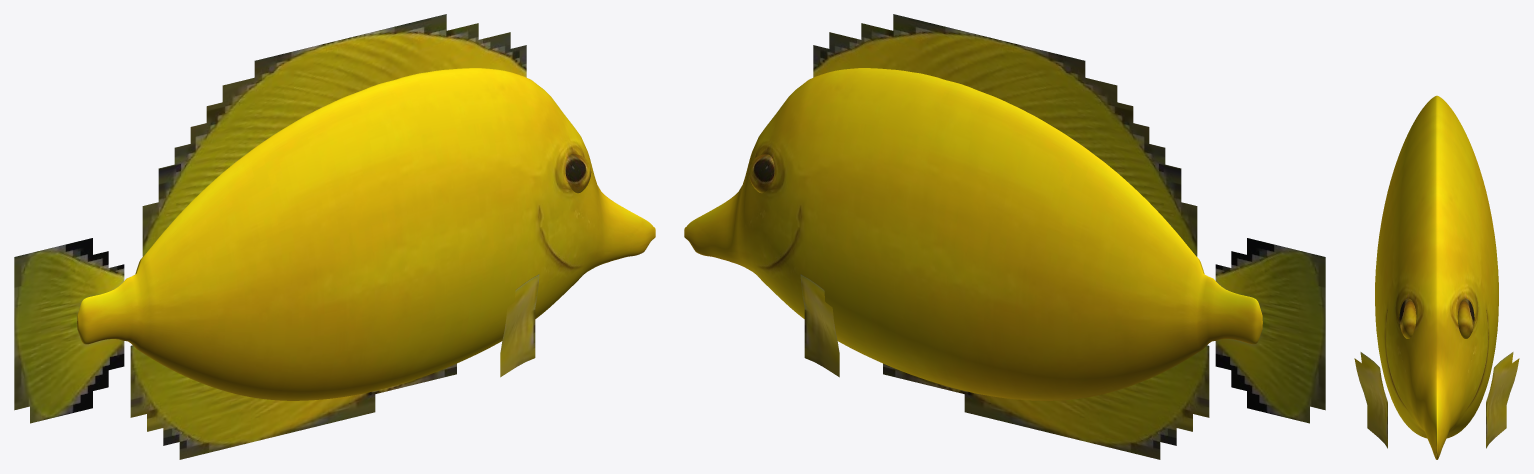
The model's file is real-zebrasoma_flavescens.glb.
3 renders of one model, left to right at view 1: azimuth 30°, elevation 25°; view 2: azimuth 150°, elevation 25°; view 3: azimuth 270°, elevation 25°, orthographic. The views are drawn at different scales.
Visible parts, largest first — view 1: zebrasoma_flavescens; view 2: zebrasoma_flavescens; view 3: zebrasoma_flavescens.
Part boxes in pixels (x1,y1,x2,y2): zebrasoma_flavescens: (14,14,655,459); zebrasoma_flavescens: (684,14,1325,459); zebrasoma_flavescens: (1354,95,1519,459).
Size of the model in its own units: 0.2003 by 0.1136 by 0.0476.
1 material, 1 textured.
